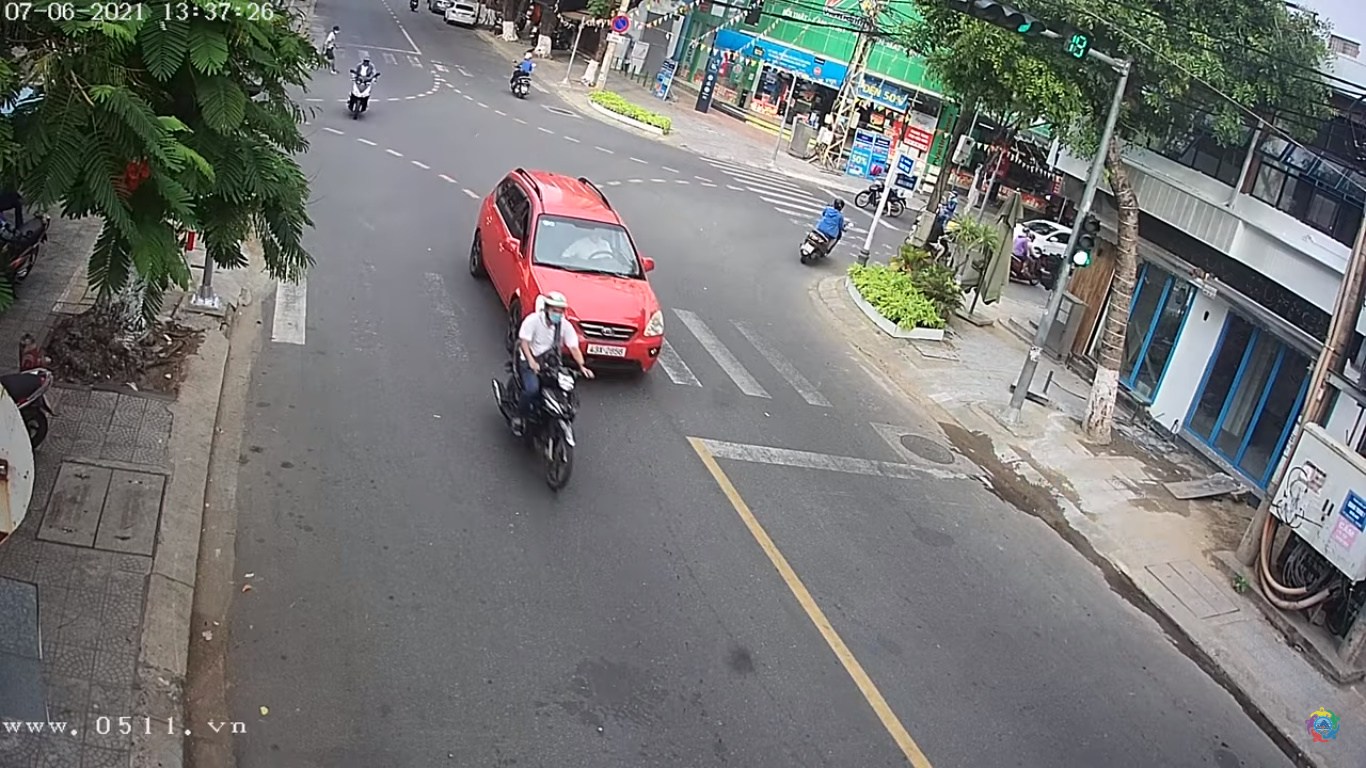car: (474, 167, 667, 385)
